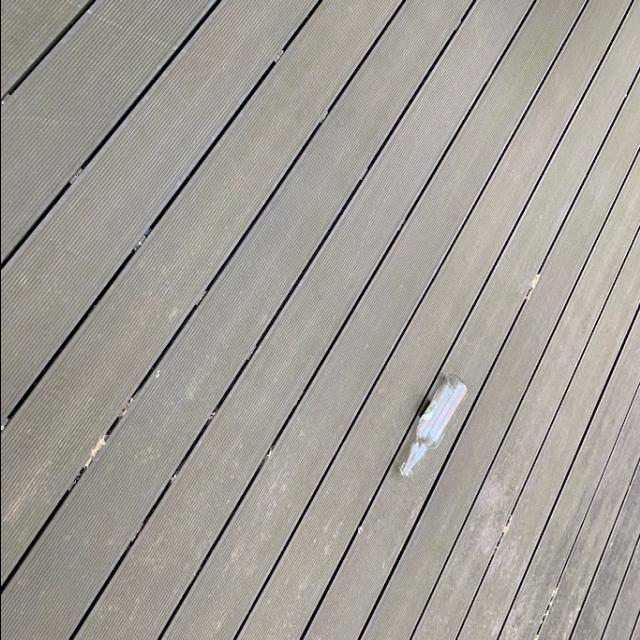litter: (396, 370, 470, 481)
